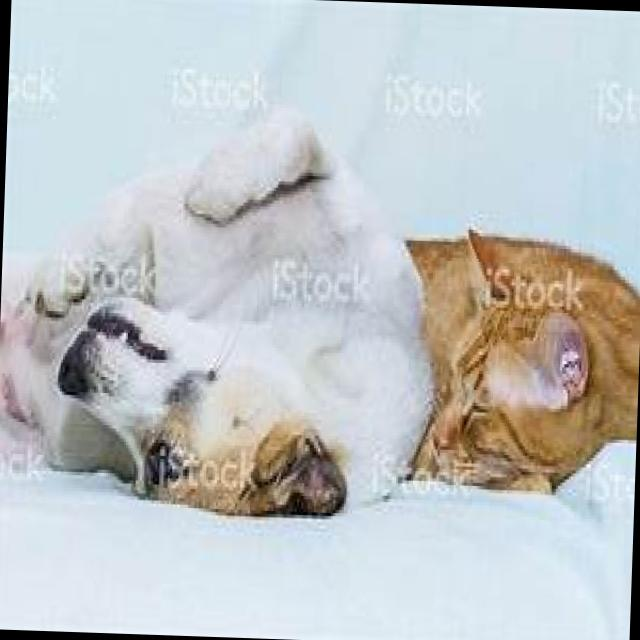animal: (0, 95, 434, 516), (395, 241, 640, 497)
